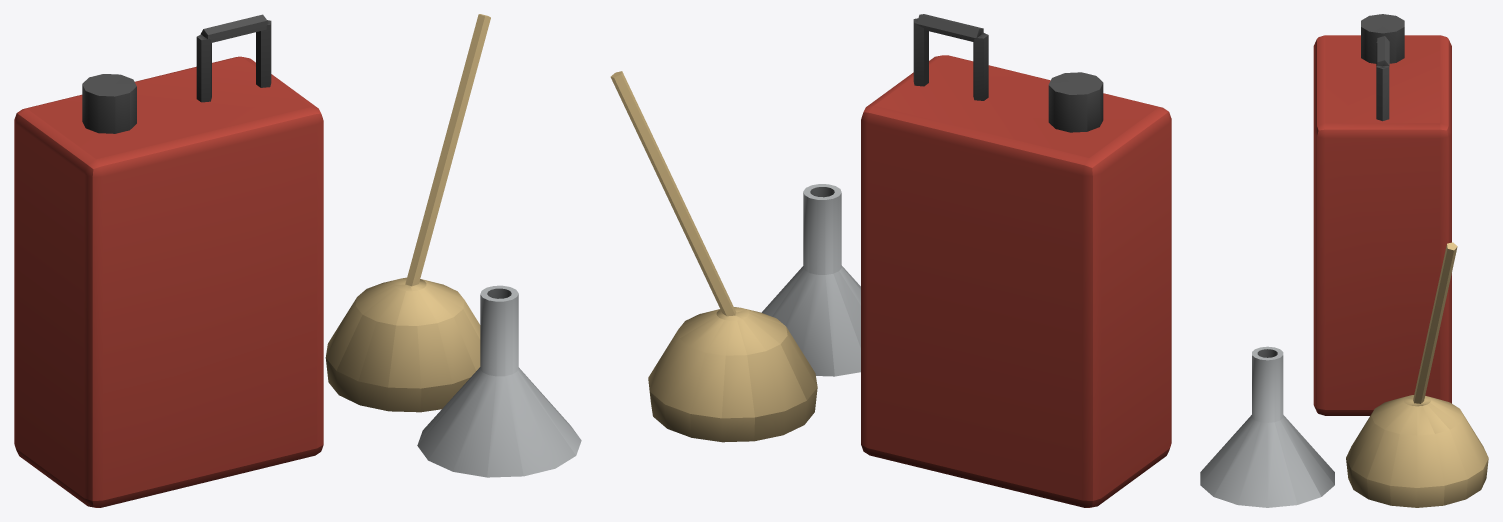
The model's file is oil_cans.glb.
3 renders of one model, left to right at view 1: azimuth 30°, elevation 25°; view 2: azimuth 150°, elevation 25°; view 3: azimuth 270°, elevation 25°, orthographic. The views are drawn at different scales.
Visible parts, largest first — view 1: static; view 2: static; view 3: static.
Part boxes in pixels (box(x1,y1,x2,y2)): static: box(14, 14, 581, 507); static: box(610, 14, 1171, 507); static: box(1200, 14, 1488, 507).
Bounding box in the file's own units: 0.4041 × 0.3357 × 0.2505.
